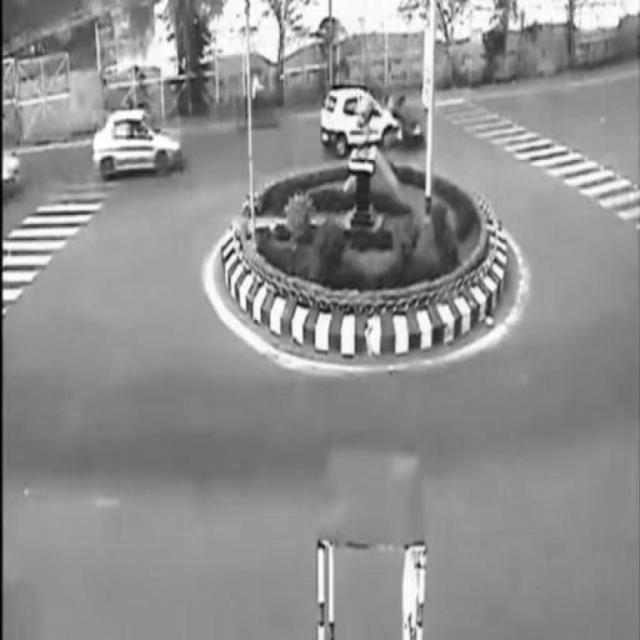accident: (320, 87, 428, 151)
vehicle: (93, 111, 181, 175)
